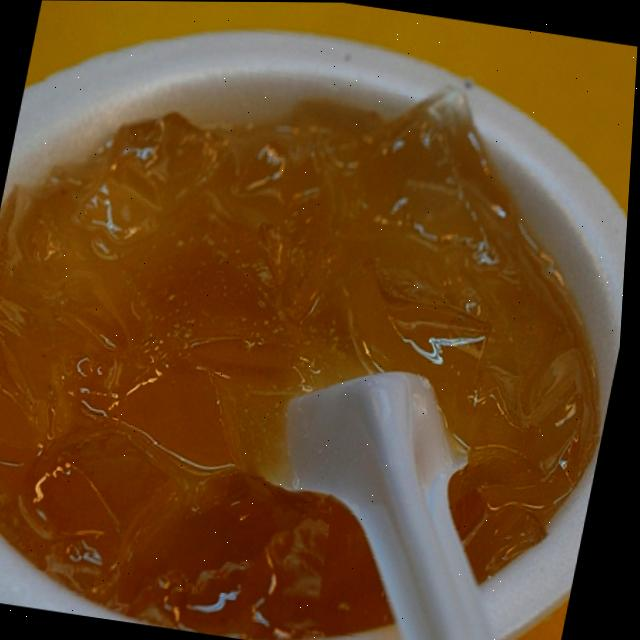蛋糕甜品: (0, 11, 639, 640)
